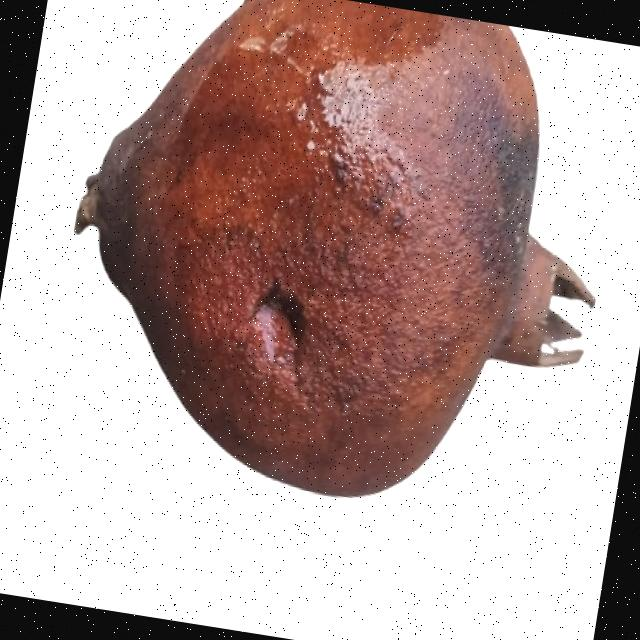Rotten: (35, 0, 640, 539)
